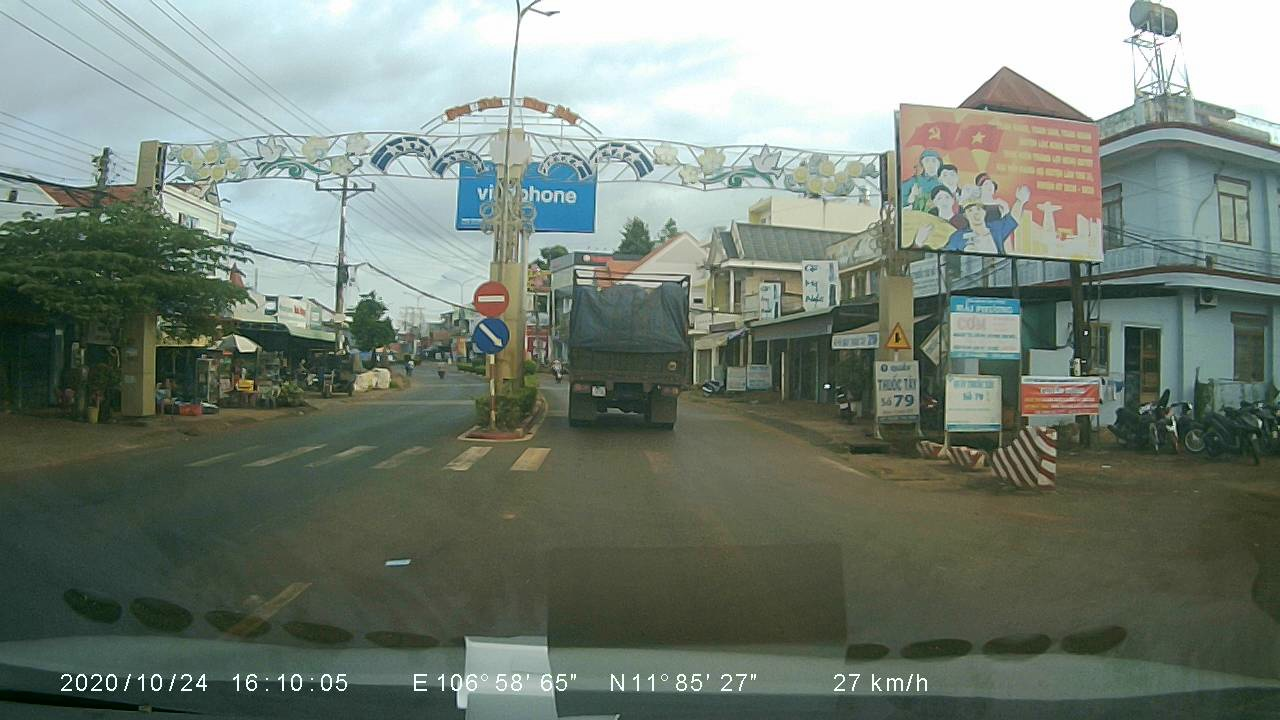Cam di nguoc chieu: (469, 280, 510, 318)
Giao nhau voi duong khong uu tien: (882, 320, 913, 352)
Huong di phai re phai: (469, 316, 508, 356)
